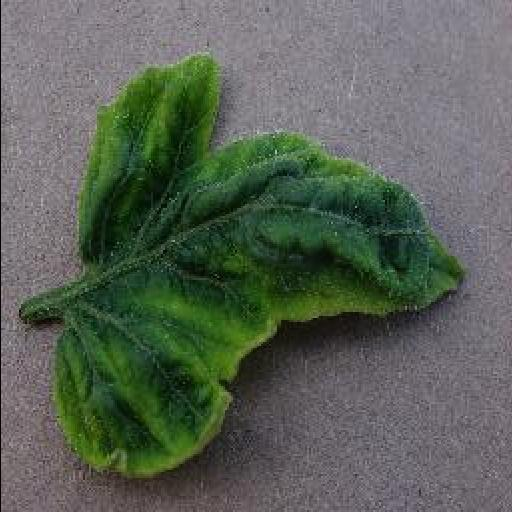disease_tomato: (52, 59, 468, 476)
